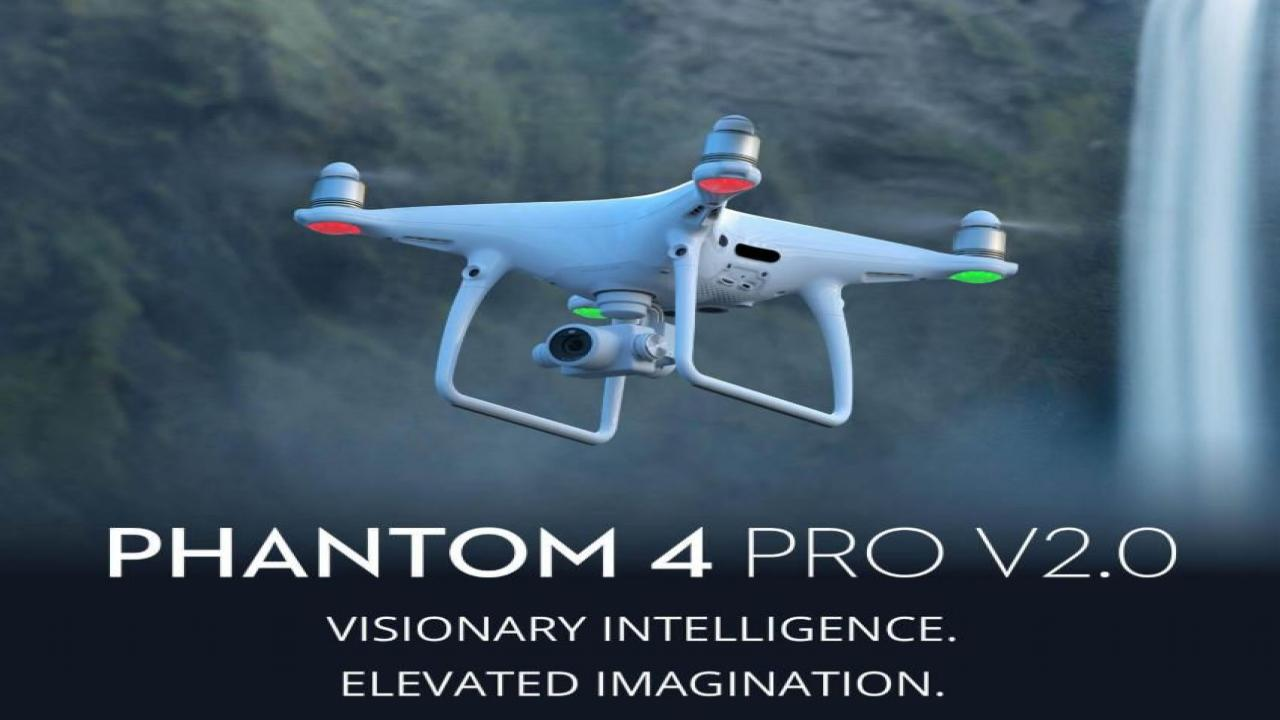Drone: (217, 107, 1116, 457)
